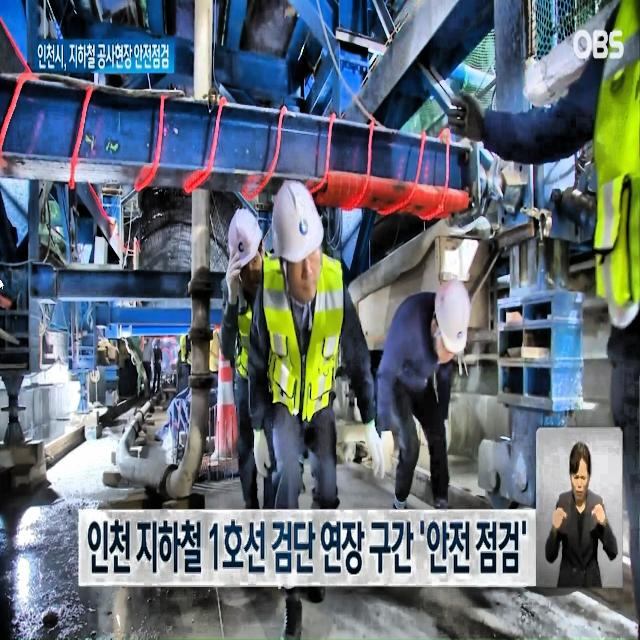safety_helmet: (428, 274, 492, 376), (269, 181, 327, 265), (217, 187, 266, 269)
safety_jacket: (258, 269, 356, 457), (583, 4, 640, 323)
